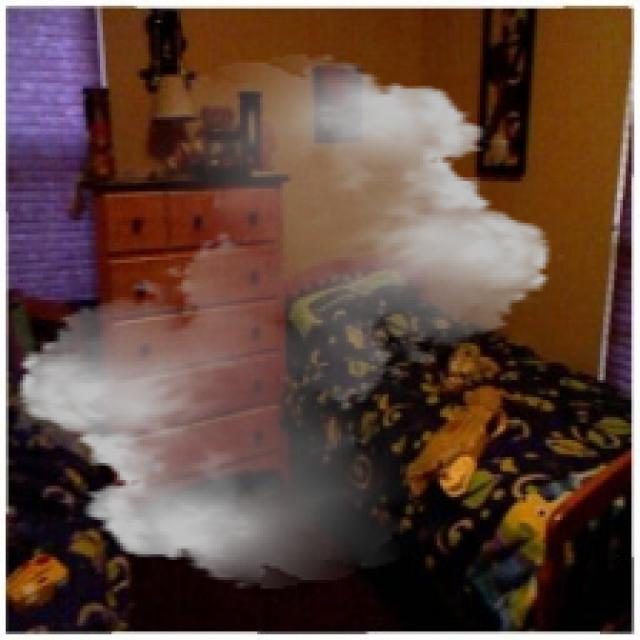smoke: (0, 54, 569, 589)
